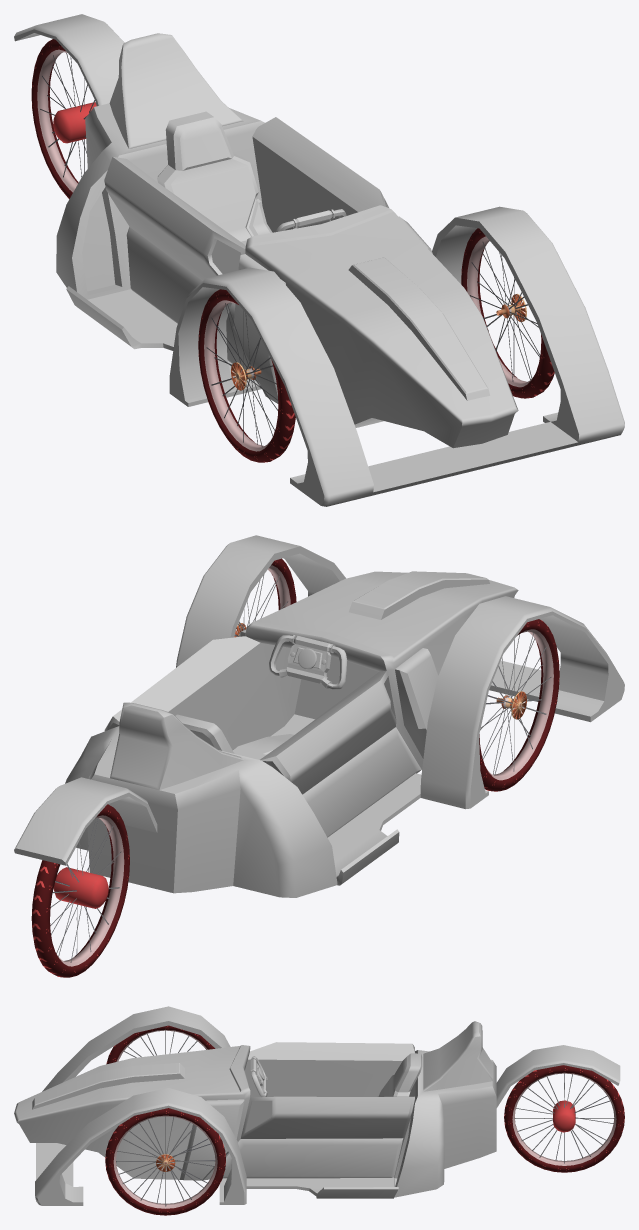
The picture shows the model from 3 angles, top to bottom: view 1: azimuth 30°, elevation 25°; view 2: azimuth 150°, elevation 25°; view 3: azimuth 270°, elevation 25°; orthographic projection. The views are drawn at different scales.
Visible parts, largest first — view 1: cro_#1, whe_#1, sil_#1, vol_#1; view 2: cro_#1, whe_#1, vol_#1, sil_#1; view 3: cro_#1, whe_#1, sil_#1, vol_#1.
Boxes of the visible parts, left/top/right/bottom form: cro_#1: left=14, top=14, right=624, bottom=506; whe_#1: left=31, top=39, right=554, bottom=462; sil_#1: left=157, top=111, right=272, bottom=245; vol_#1: left=275, top=209, right=346, bottom=232; cro_#1: left=14, top=535, right=624, bottom=897; whe_#1: left=31, top=558, right=559, bottom=977; vol_#1: left=269, top=635, right=347, bottom=689; sil_#1: left=175, top=714, right=293, bottom=759; cro_#1: left=14, top=1006, right=620, bottom=1205; whe_#1: left=105, top=1025, right=624, bottom=1215; sil_#1: left=378, top=1053, right=422, bottom=1096; vol_#1: left=250, top=1056, right=267, bottom=1097.
Size of the model in its own units: 156 by 107 by 411.
